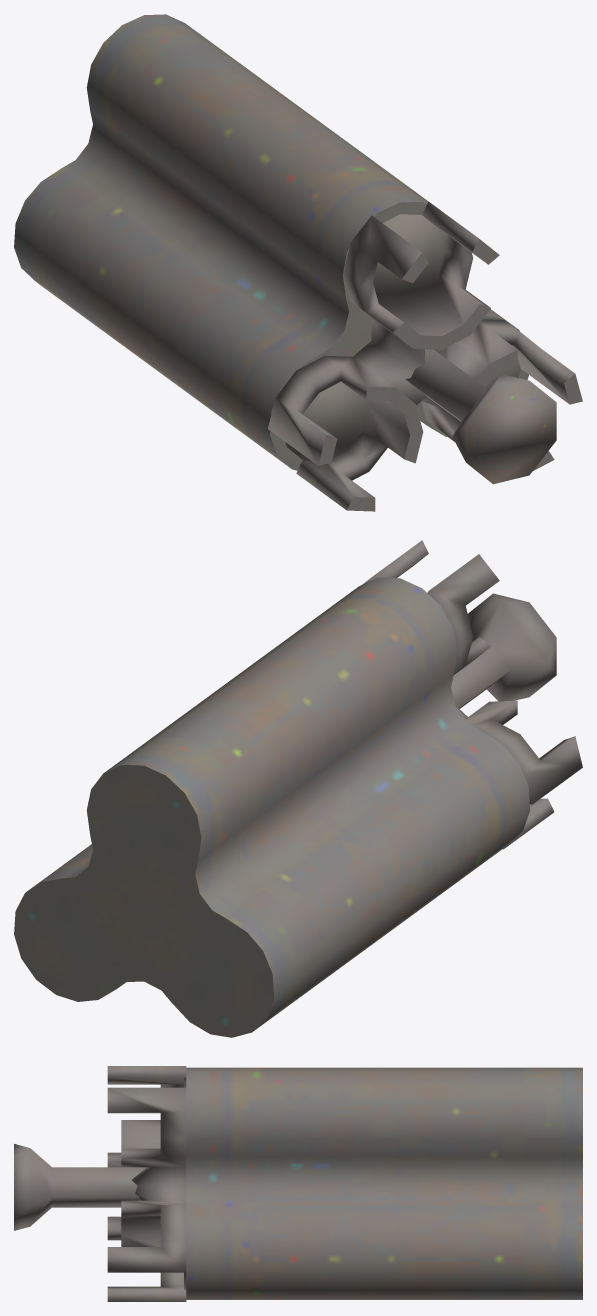
File: mag3.obj
The picture shows the model from 3 angles, top to bottom: view 1: azimuth 30°, elevation 25°; view 2: azimuth 150°, elevation 25°; view 3: azimuth 270°, elevation 25°; orthographic projection. The views are drawn at different scales.
Visible parts, largest first — view 1: mag3; view 2: mag3; view 3: mag3.
Part boxes in pixels (bbox=[...]): mag3: bbox=[14, 14, 582, 511]; mag3: bbox=[14, 540, 582, 1037]; mag3: bbox=[14, 1066, 582, 1301].
Size of the model in its own units: 7.05 by 6.46 by 16.96.
